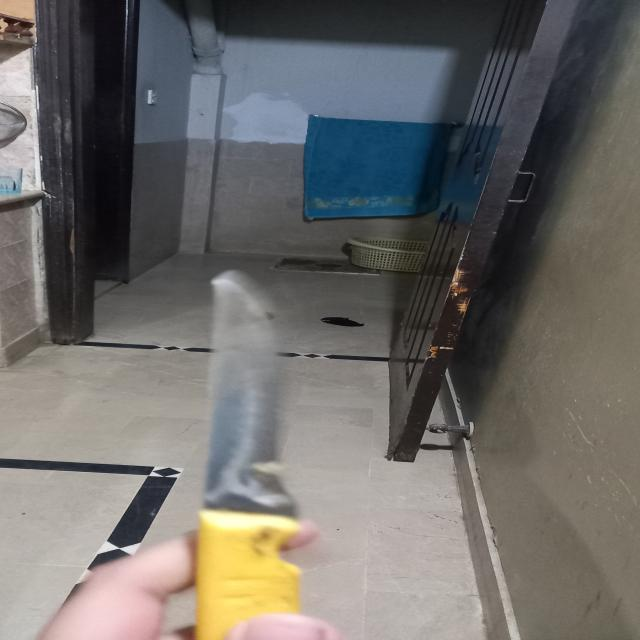Knife: (179, 256, 340, 640)
